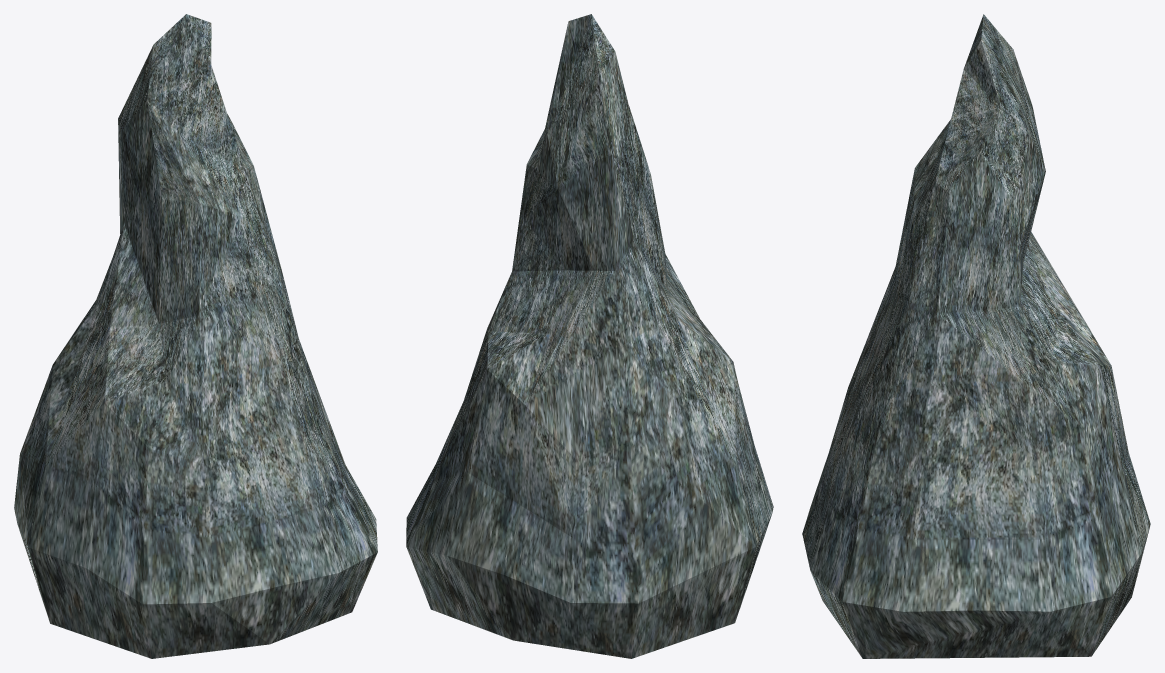
The model's file is rock_dath_desertcanyon_md_a1_l0.fbx.
3 renders of one model, left to right at view 1: azimuth 30°, elevation 25°; view 2: azimuth 150°, elevation 25°; view 3: azimuth 270°, elevation 25°, orthographic.
Visible parts, largest first — view 1: mesh_node; view 2: mesh_node; view 3: mesh_node.
Boxes of the visible parts, <box> form: mesh_node: <box>14,14,377,658</box>; mesh_node: <box>406,14,773,658</box>; mesh_node: <box>802,14,1150,658</box>.
Size of the model in its own units: 4.63 by 8.68 by 4.31.
